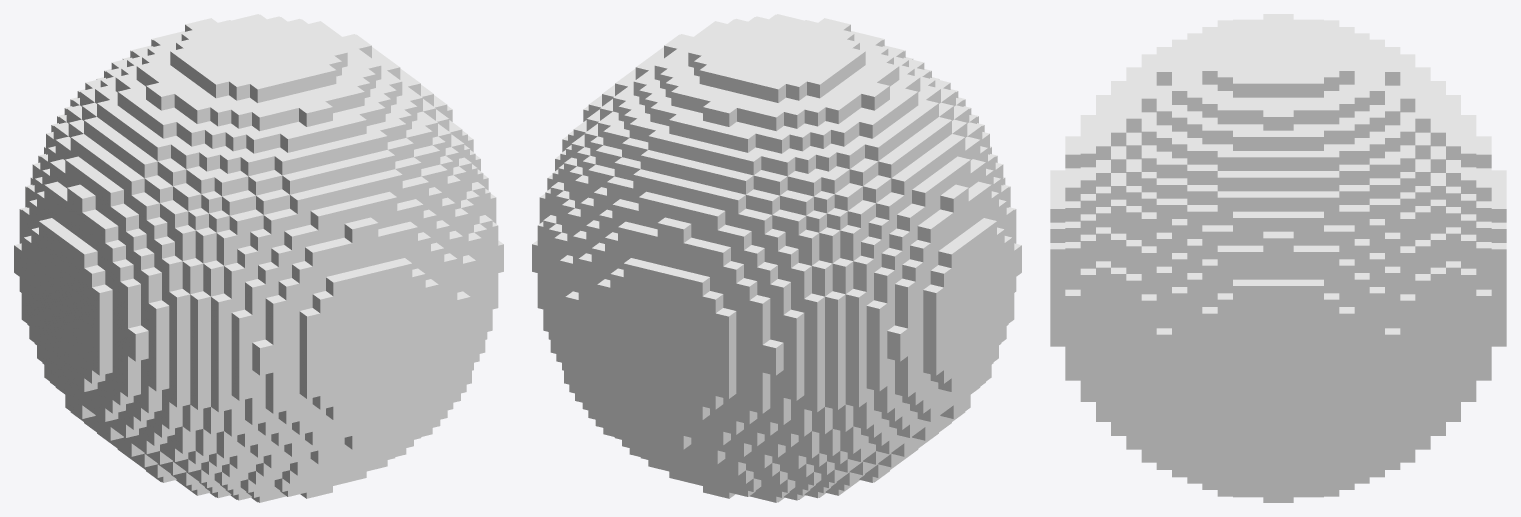
The model's file is Character_0.fbx.
The picture shows the model from 3 angles, left to right: view 1: azimuth 30°, elevation 25°; view 2: azimuth 150°, elevation 25°; view 3: azimuth 270°, elevation 25°; orthographic projection.
Visible parts, largest first — view 1: Character_0; view 2: Character_0; view 3: Character_0.
Part boxes in pixels (x1=…): Character_0: x1=14, y1=14, x2=503, y2=502; Character_0: x1=532, y1=14, x2=1021, y2=502; Character_0: x1=1050, y1=14, x2=1506, y2=502.
Size of the model in its own units: 30 by 30 by 30.
1 material, 1 textured.
